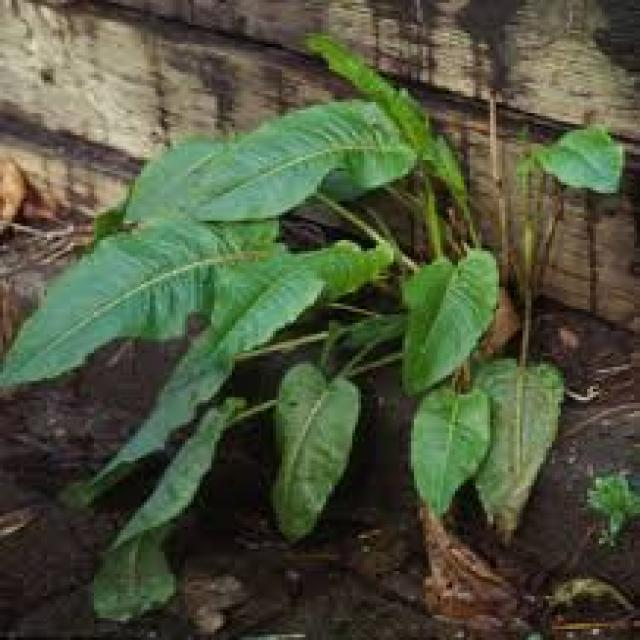organic waste: (23, 55, 640, 546)
